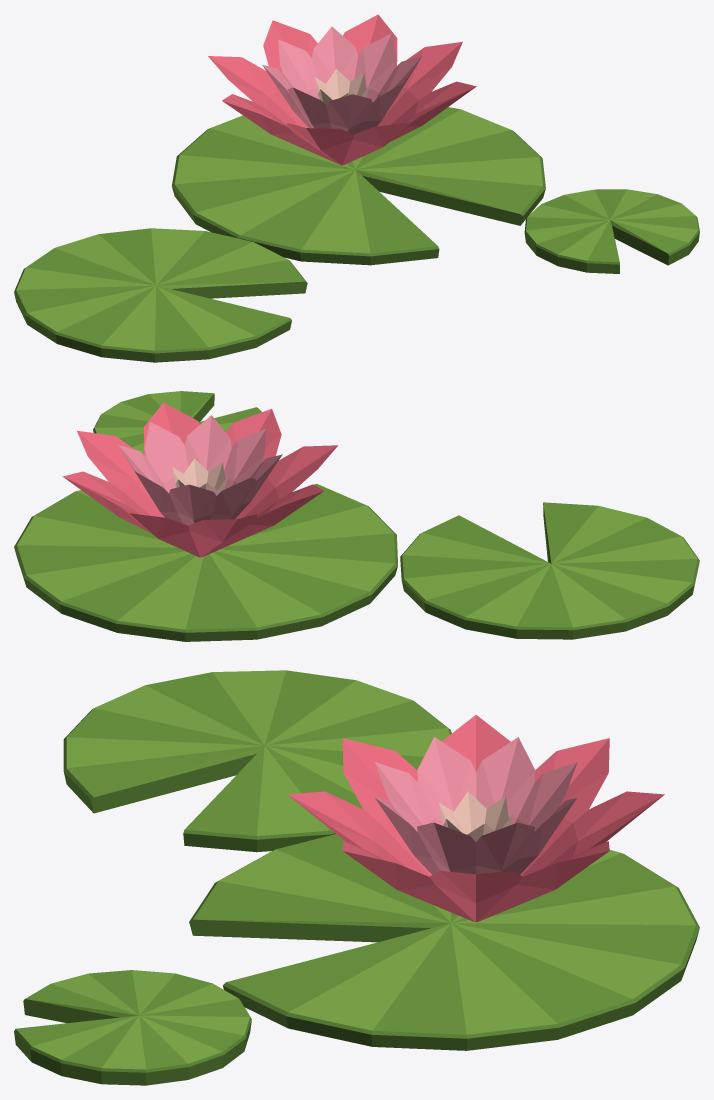
The model's file is FMS_Water_LilyPads.fbx.
3 views of the same model, one above another, from view 1: azimuth 30°, elevation 25°; view 2: azimuth 150°, elevation 25°; view 3: azimuth 270°, elevation 25° (orthographic). The views are drawn at different scales.
Parts seen in each view (by area): view 1: FMS_Water_LilyPads; view 2: FMS_Water_LilyPads; view 3: FMS_Water_LilyPads.
Part boxes in pixels (<box>): FMS_Water_LilyPads: <box>14,14,699,362</box>; FMS_Water_LilyPads: <box>14,391,699,641</box>; FMS_Water_LilyPads: <box>14,670,699,1085</box>.
Bounding box in the file's own units: 1.07 × 0.2007 × 0.7718.
